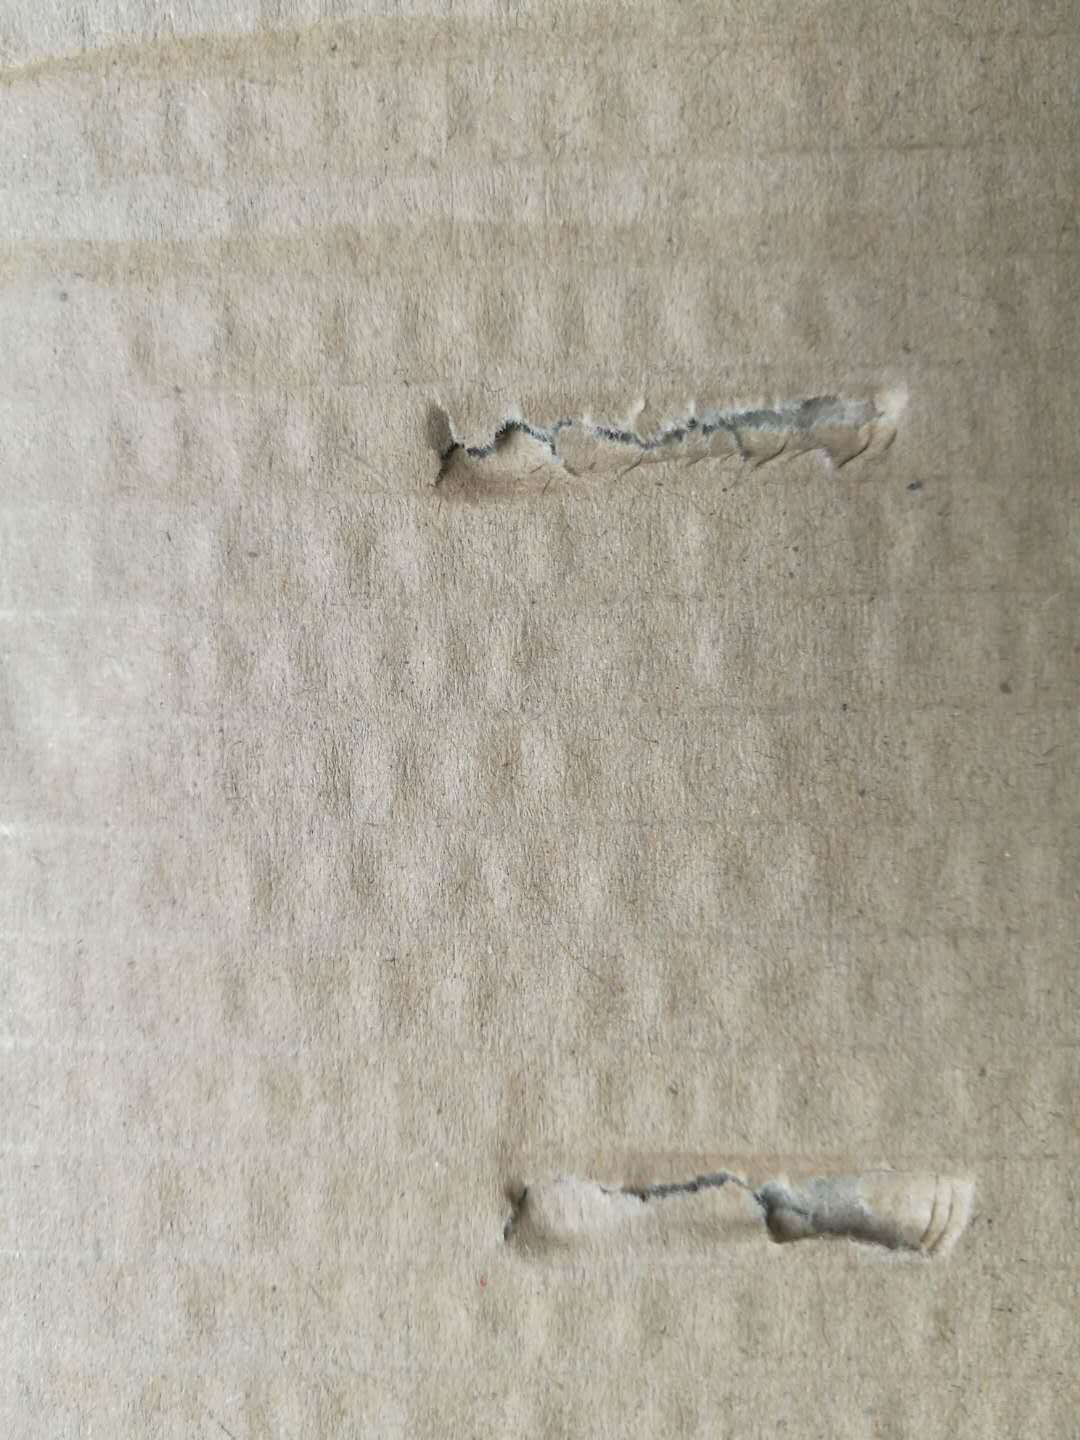defect: (386, 345, 971, 541), (466, 1121, 1035, 1319)
